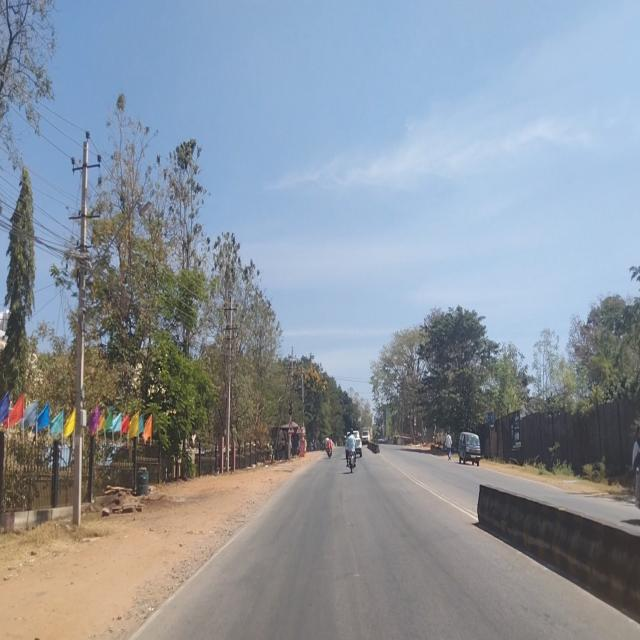bien_cam: (287, 422, 295, 434)
